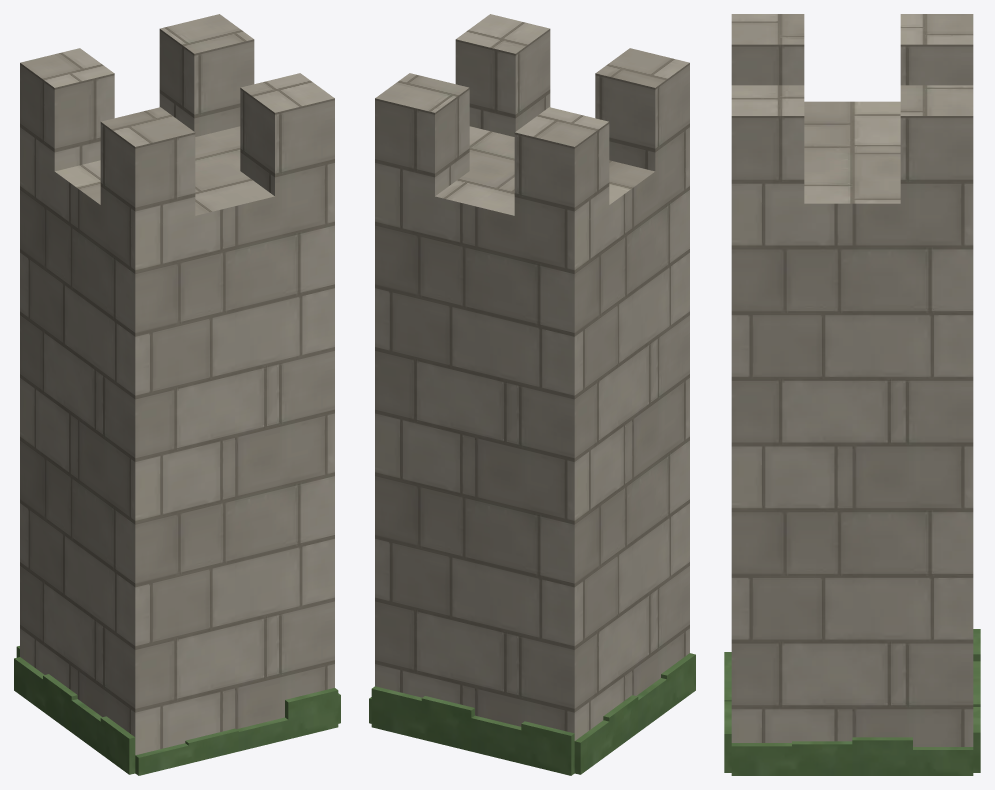
File: wall.corner.glb
3 renders of one model, left to right at view 1: azimuth 30°, elevation 25°; view 2: azimuth 150°, elevation 25°; view 3: azimuth 270°, elevation 25°, orthographic. The views are drawn at different scales.
Visible parts, largest first — view 1: castle.wall.corner; view 2: castle.wall.corner; view 3: castle.wall.corner.
Part boxes in pixels (left/top/right/bottom): castle.wall.corner: left=14, top=14, right=340, bottom=775; castle.wall.corner: left=369, top=14, right=695, bottom=775; castle.wall.corner: left=724, top=14, right=980, bottom=775.
Bounding box in the file's own units: 1.06 × 3 × 1.06.
Materials: 2 (2 with a texture image).
